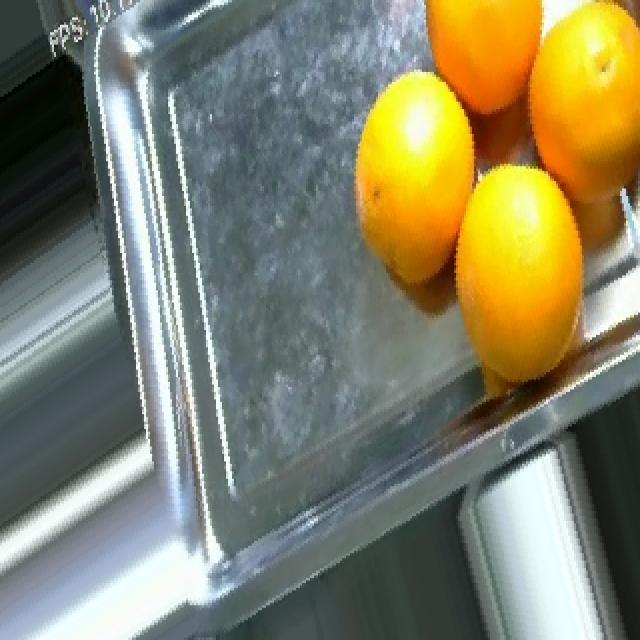Fruit: (340, 49, 496, 246)
